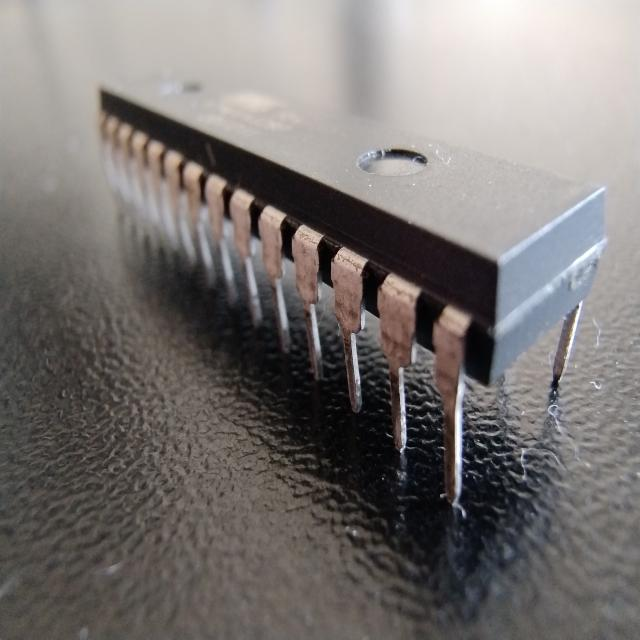atmega: (94, 68, 610, 518)
